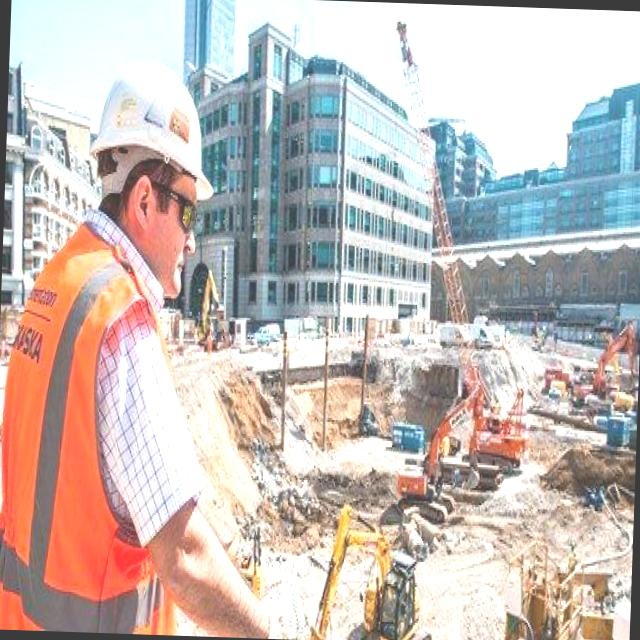goggles: (140, 167, 207, 240)
helmet: (83, 50, 219, 206)
vest: (0, 227, 199, 635)
